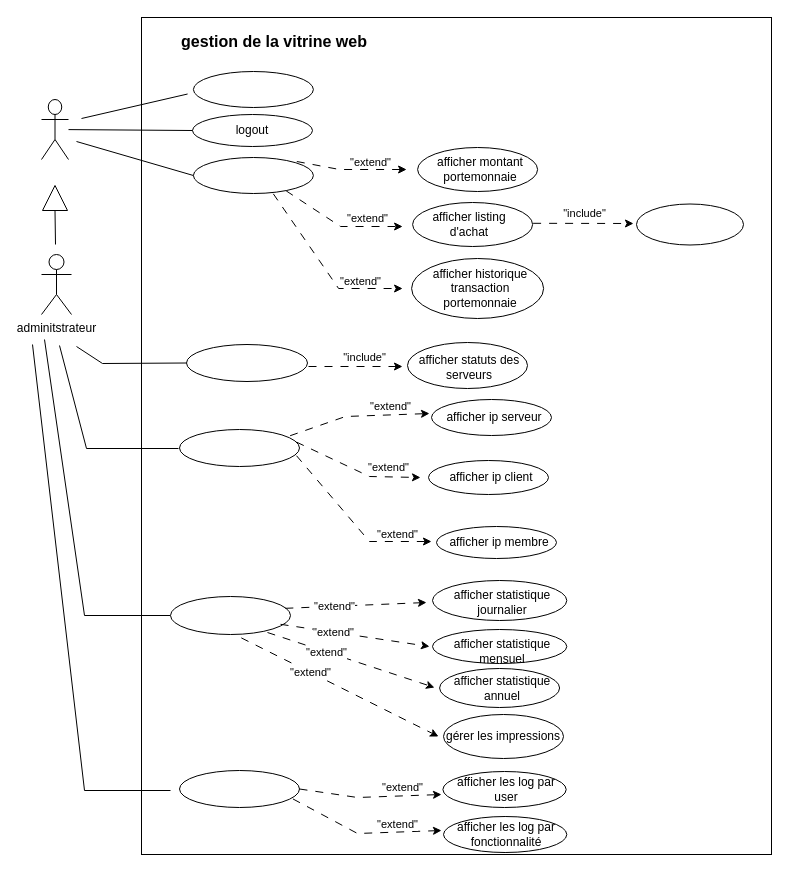
The diagram is 789 pixels wide and 872 high, and some of its shapes have lost their labels. The centre of each missing label's shape, as x and y in pixels:
analyser les log: (239,789)
analyser les ventes: (230,615)
choisir achat: (690,224)
gérer info personnelles: (252,175)
gérer les connexions: (239,447)
gérer les services: (247,363)
login: (252,89)
membre: (54,129)
